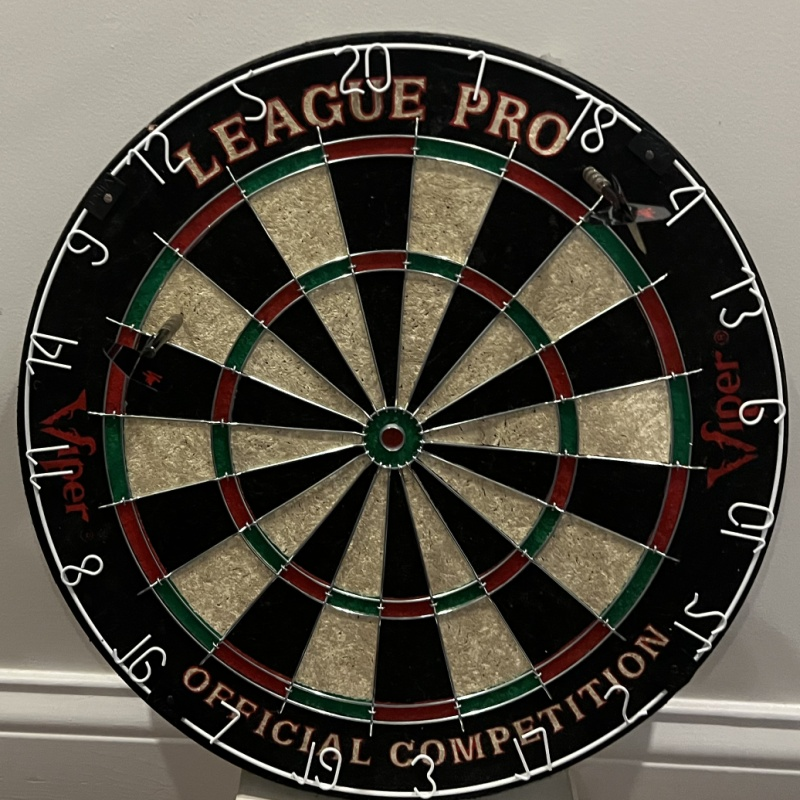dart: (167, 307, 189, 334), (578, 165, 600, 185)
eleven: (27, 444, 75, 488)
six: (743, 399, 785, 424)
three: (411, 754, 437, 800)
twenty: (333, 45, 391, 94)
